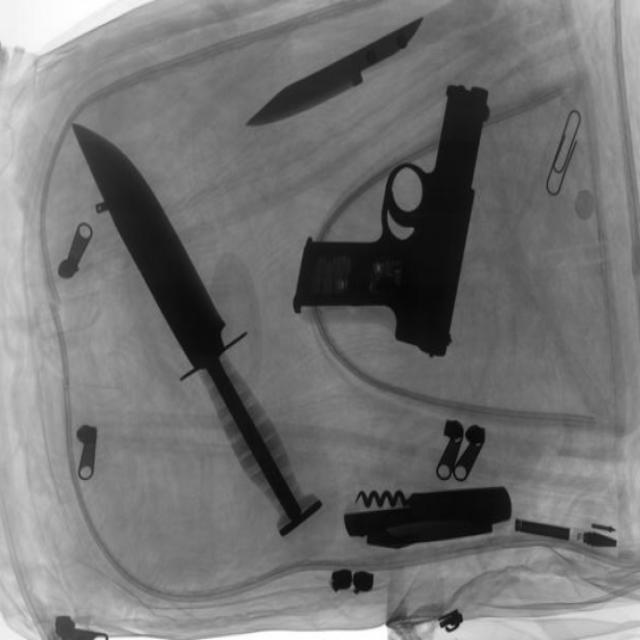GUN: (295, 84, 492, 352), (337, 477, 520, 557)
KNIFE: (75, 115, 281, 510), (241, 13, 429, 146)
